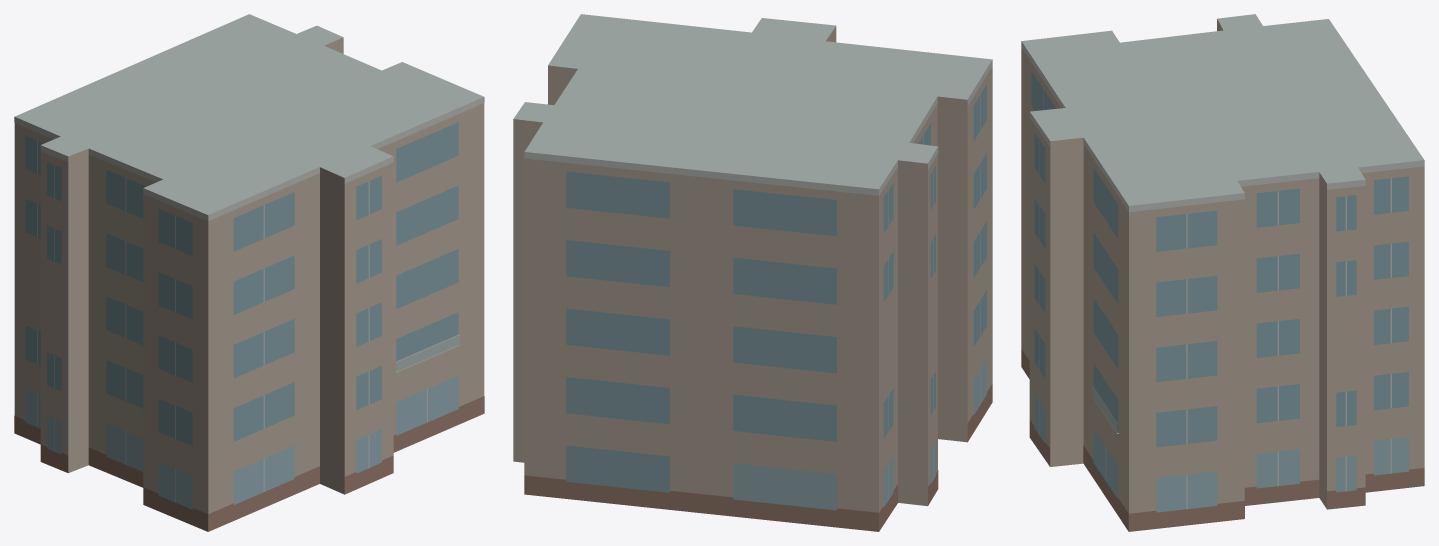
The model's file is survey-upis-32930643.glb.
3 renders of one model, left to right at view 1: azimuth 30°, elevation 25°; view 2: azimuth 150°, elevation 25°; view 3: azimuth 270°, elevation 25°, orthographic. The views are drawn at different scales.
Parts seen in each view (by area): view 1: survey-upis-32930643.tmp; view 2: survey-upis-32930643.tmp; view 3: survey-upis-32930643.tmp.
Part boxes in pixels (left/top/right/bottom): survey-upis-32930643.tmp: left=14, top=14, right=484, bottom=531; survey-upis-32930643.tmp: left=513, top=14, right=992, bottom=531; survey-upis-32930643.tmp: left=1021, top=14, right=1424, bottom=531.
Size of the model in its own units: 16.12 by 12.75 by 14.3.
